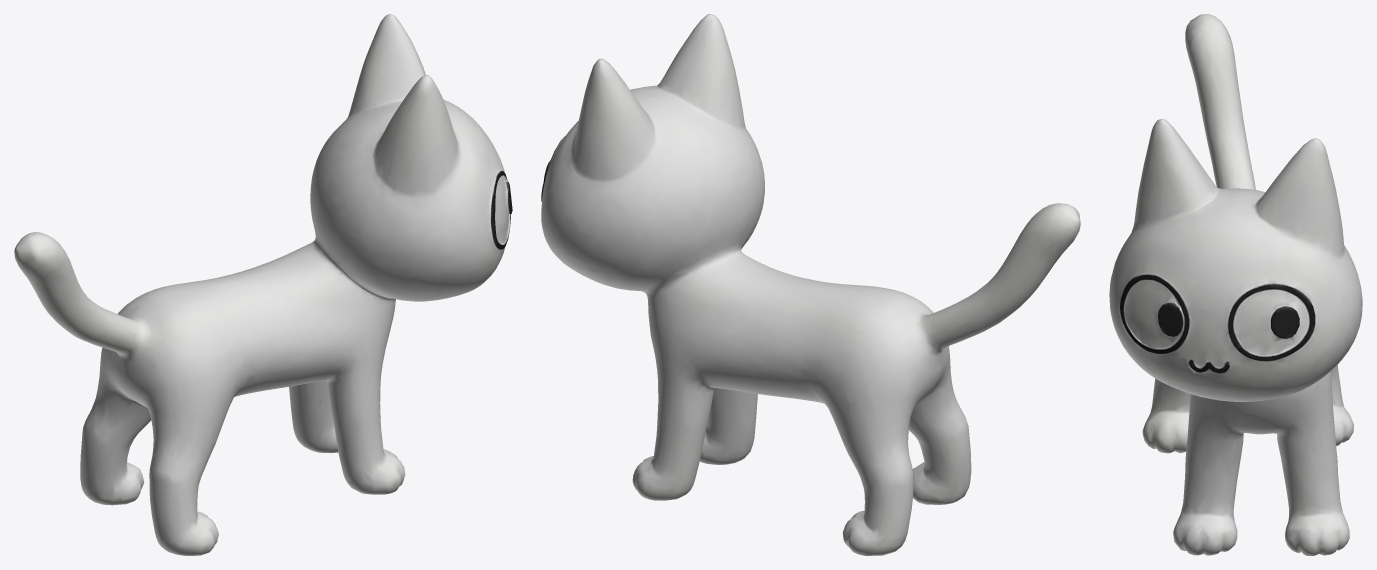
The model's file is NYAZCATS.glb.
3 renders of one model, left to right at view 1: azimuth 30°, elevation 25°; view 2: azimuth 150°, elevation 25°; view 3: azimuth 270°, elevation 25°, orthographic. The views are drawn at different scales.
Parts seen in each view (by area): view 1: tripo_node_f8b1d042-c5e3-4b08-be77-4617efc7e752; view 2: tripo_node_f8b1d042-c5e3-4b08-be77-4617efc7e752; view 3: tripo_node_f8b1d042-c5e3-4b08-be77-4617efc7e752.
Part boxes in pixels (x1,y1,x2,y2): tripo_node_f8b1d042-c5e3-4b08-be77-4617efc7e752: (14, 14, 512, 555); tripo_node_f8b1d042-c5e3-4b08-be77-4617efc7e752: (541, 14, 1080, 555); tripo_node_f8b1d042-c5e3-4b08-be77-4617efc7e752: (1109, 14, 1362, 555).
Size of the model in its own units: 1.24 by 1 by 0.515.
1 material, 1 textured.
